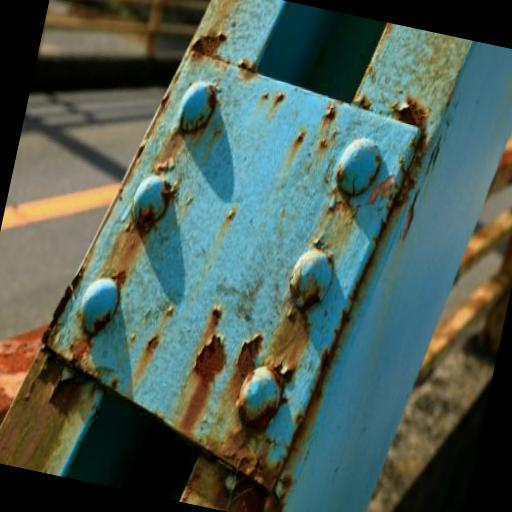corrosion: (0, 350, 104, 488), (318, 136, 392, 259), (165, 329, 235, 432), (182, 449, 283, 512), (181, 452, 271, 512), (0, 311, 48, 423), (387, 95, 430, 204), (263, 306, 317, 378), (39, 265, 85, 344), (222, 424, 273, 476), (230, 332, 262, 397), (388, 91, 434, 133), (192, 34, 230, 62)
